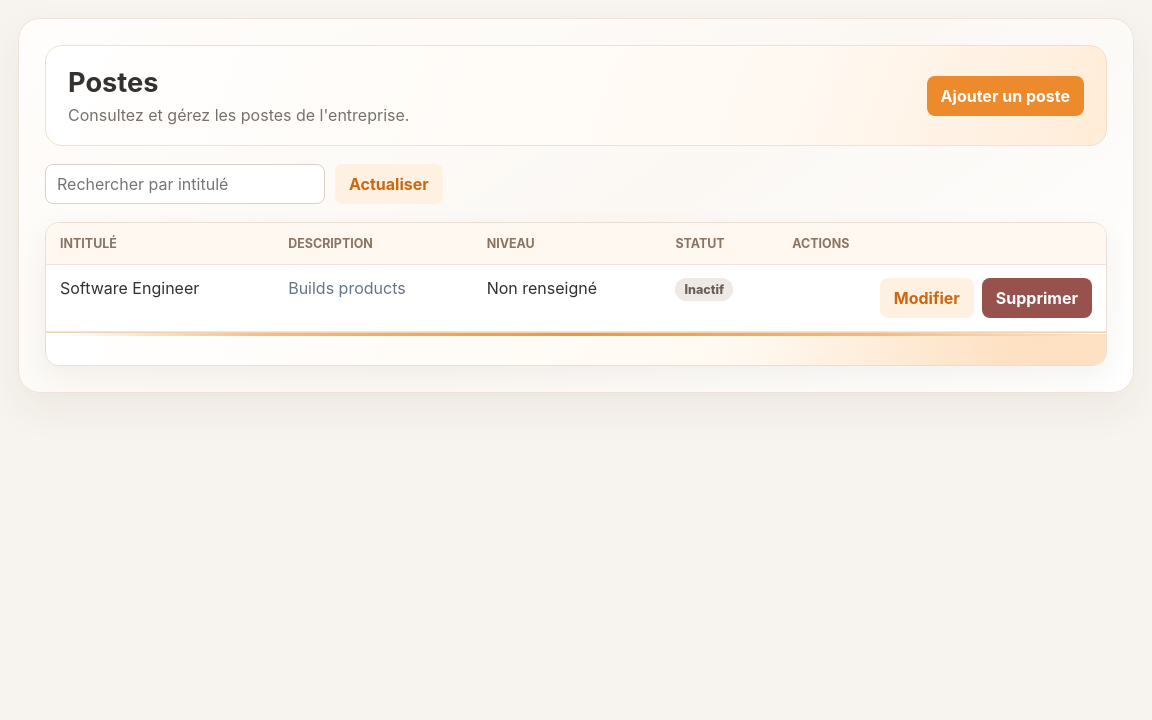
Test: PositionListComponent › handles delete conflict safely
Click the button "Supprimer" at (1037, 298), box [982,278,1092,318]
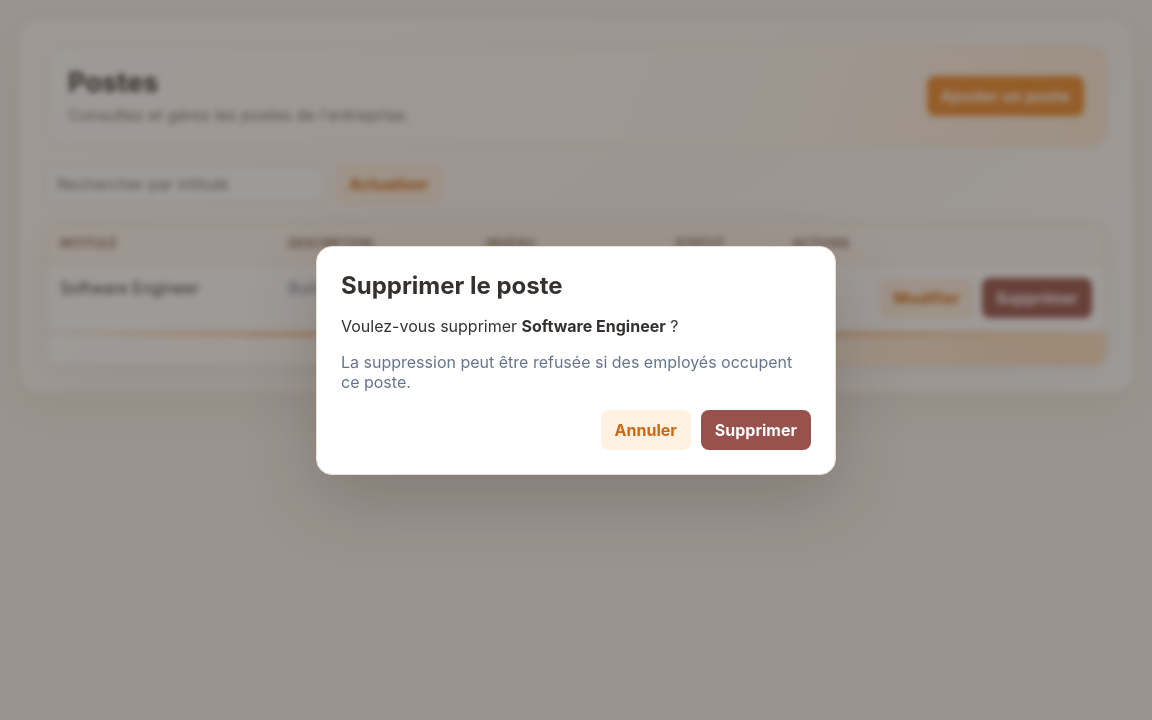
Click the button with class "danger-button" showing "Supprimer" at (756, 430), box [701,410,811,450]
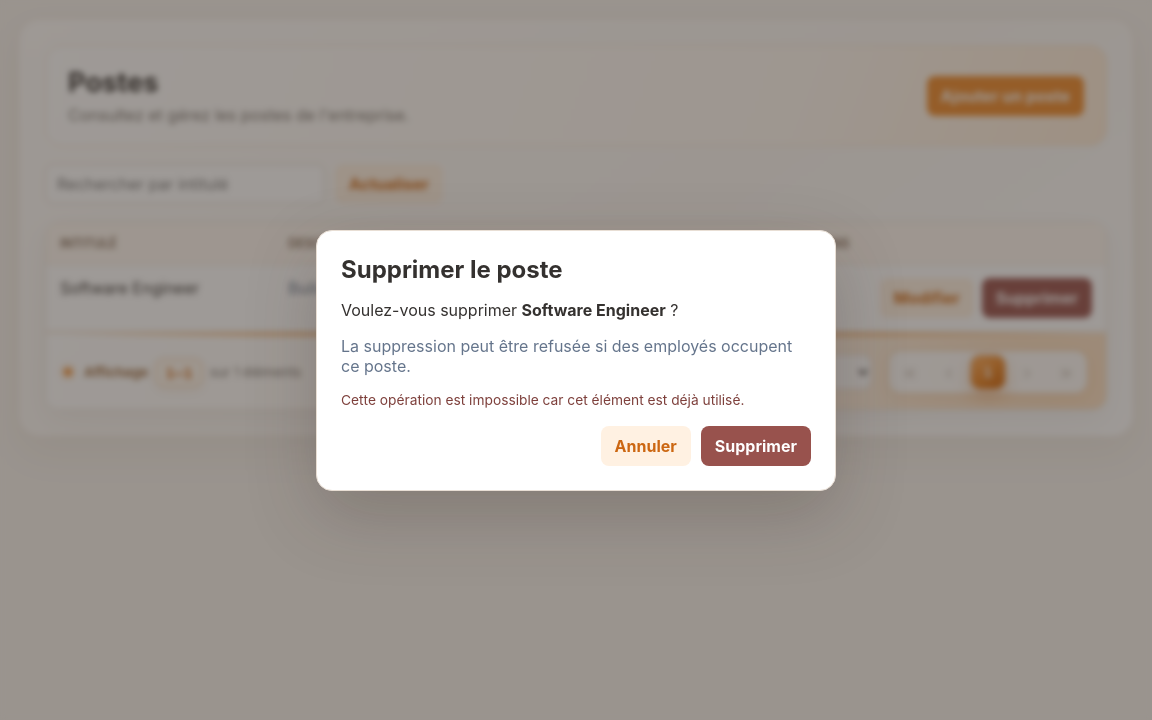
Expected: the text "Cette opération est impossible car cet élément est déjà utilisé." is shown, [341,392,811,408]
